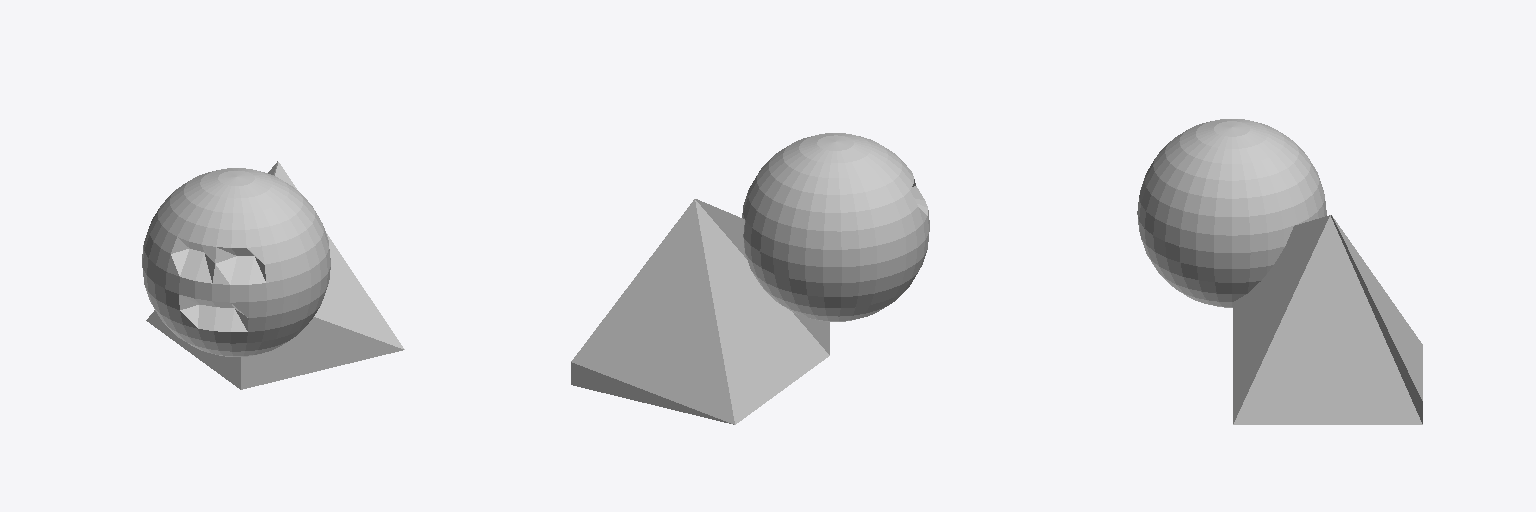
The model's file is Walter.obj.
3 views of the same model, side by side, from view 1: azimuth 30°, elevation 25°; view 2: azimuth 150°, elevation 25°; view 3: azimuth 270°, elevation 25° (orthographic).
Visible parts, largest first — view 1: Cube; view 2: Cube; view 3: Cube.
Boxes of the visible parts, <box> form: Cube: <box>142,161,404,389</box>; Cube: <box>571,133,929,424</box>; Cube: <box>1137,119,1422,424</box>.
Size of the model in its own units: 3.06 by 2.5 by 3.01.